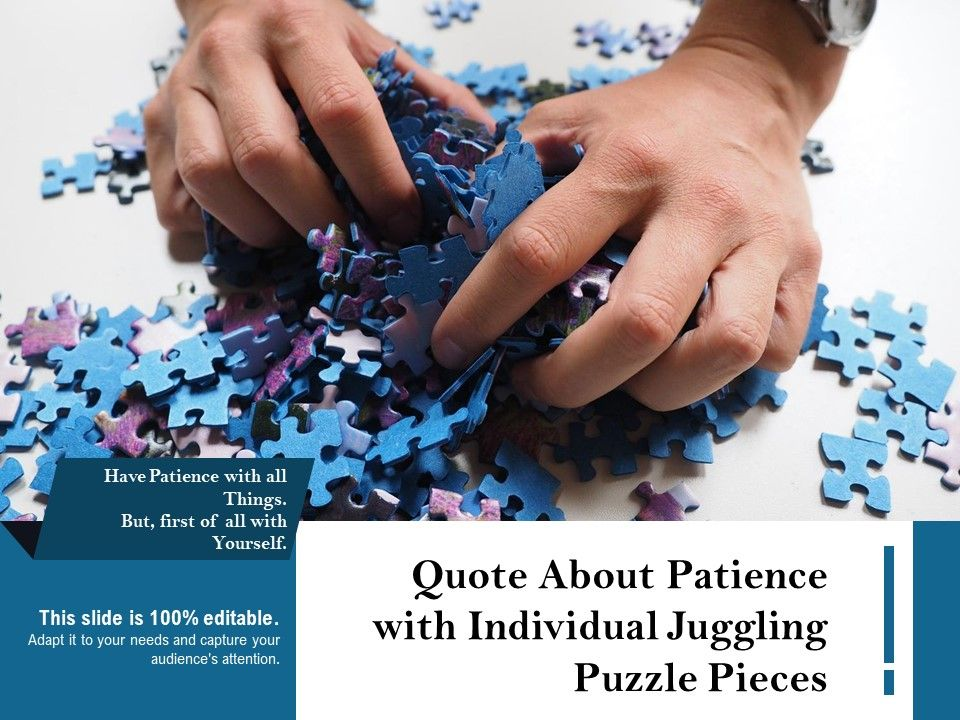puzzle piece: (854, 368, 946, 464), (815, 426, 908, 518), (552, 419, 659, 485), (9, 296, 112, 364), (819, 299, 889, 392), (123, 339, 247, 387), (370, 414, 488, 462)
